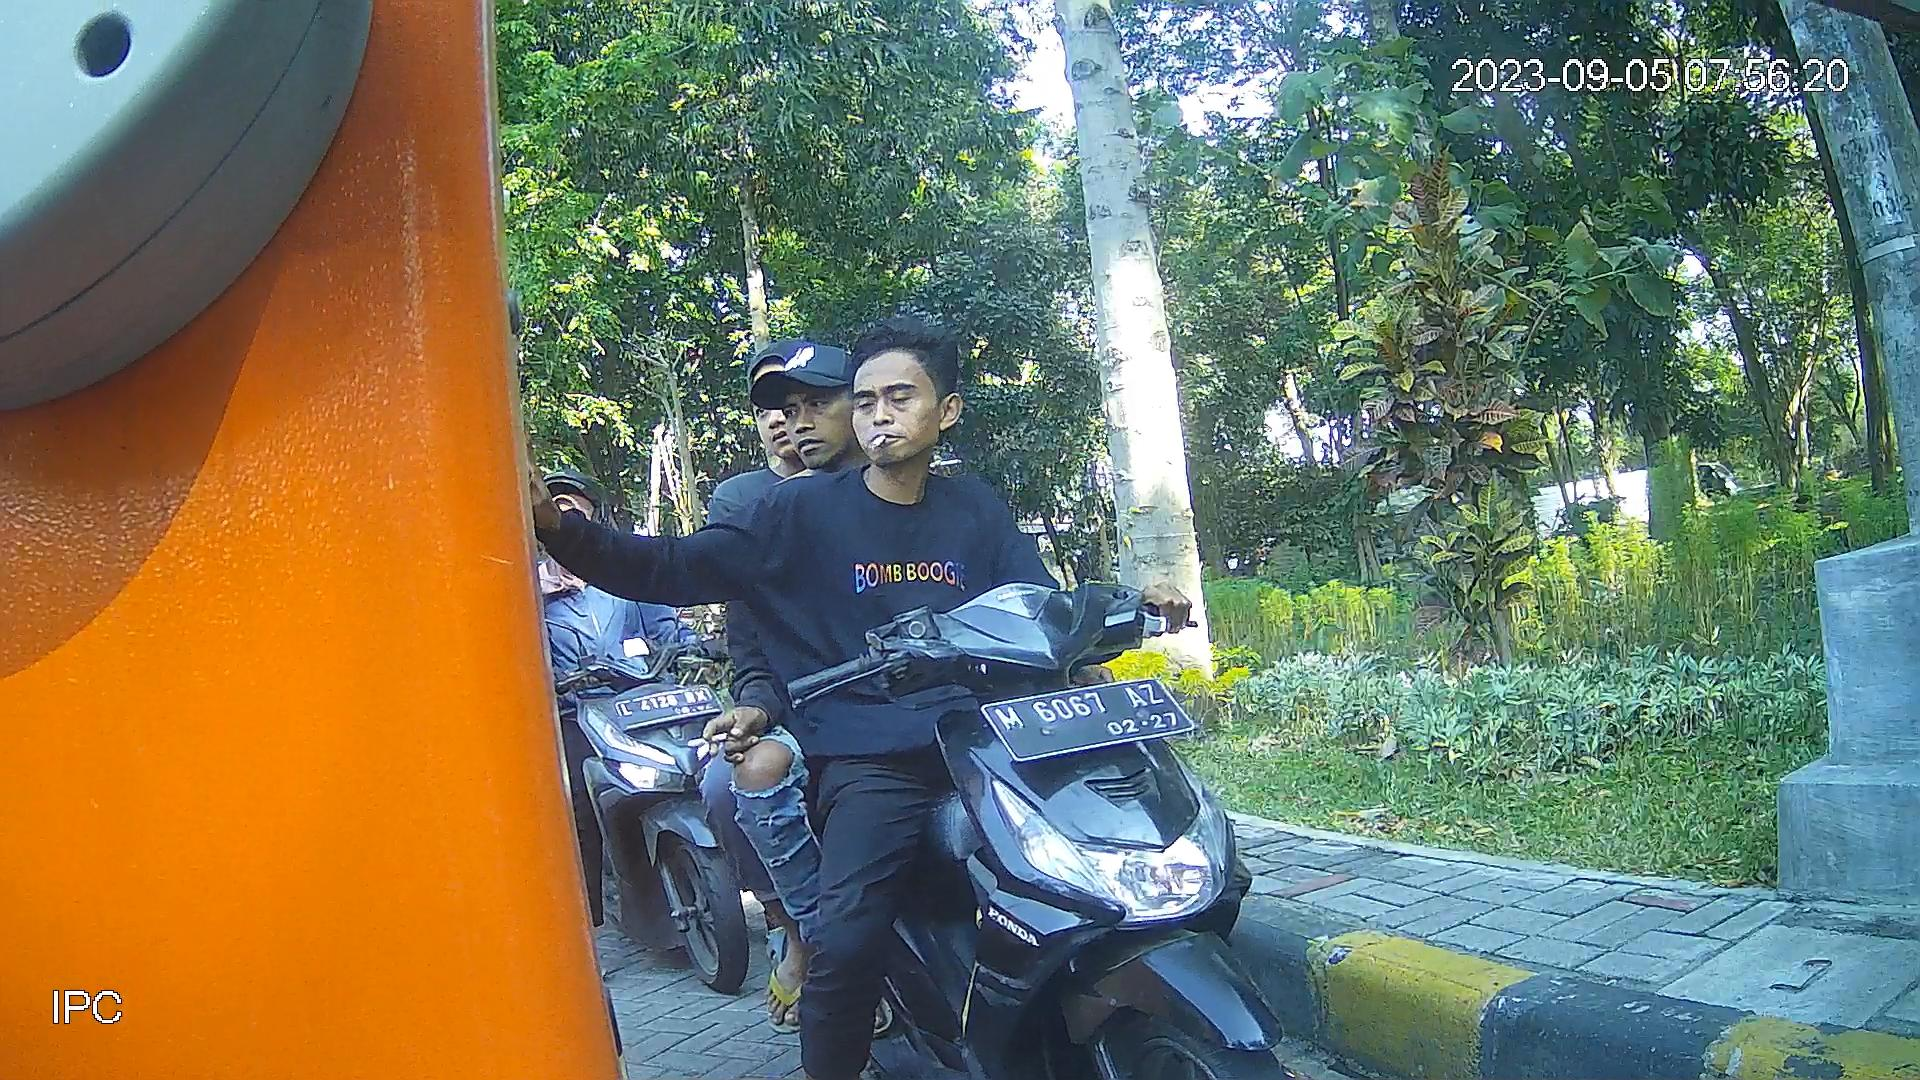plat: (976, 675, 1201, 765)
